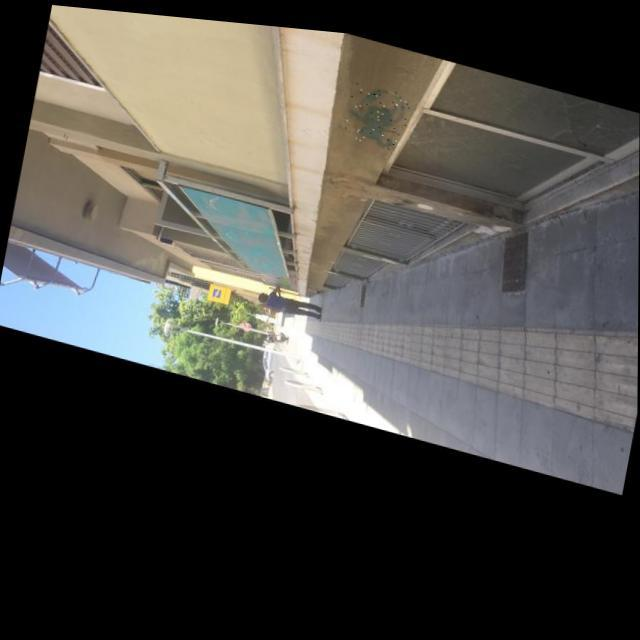-: (343, 71, 411, 145)
